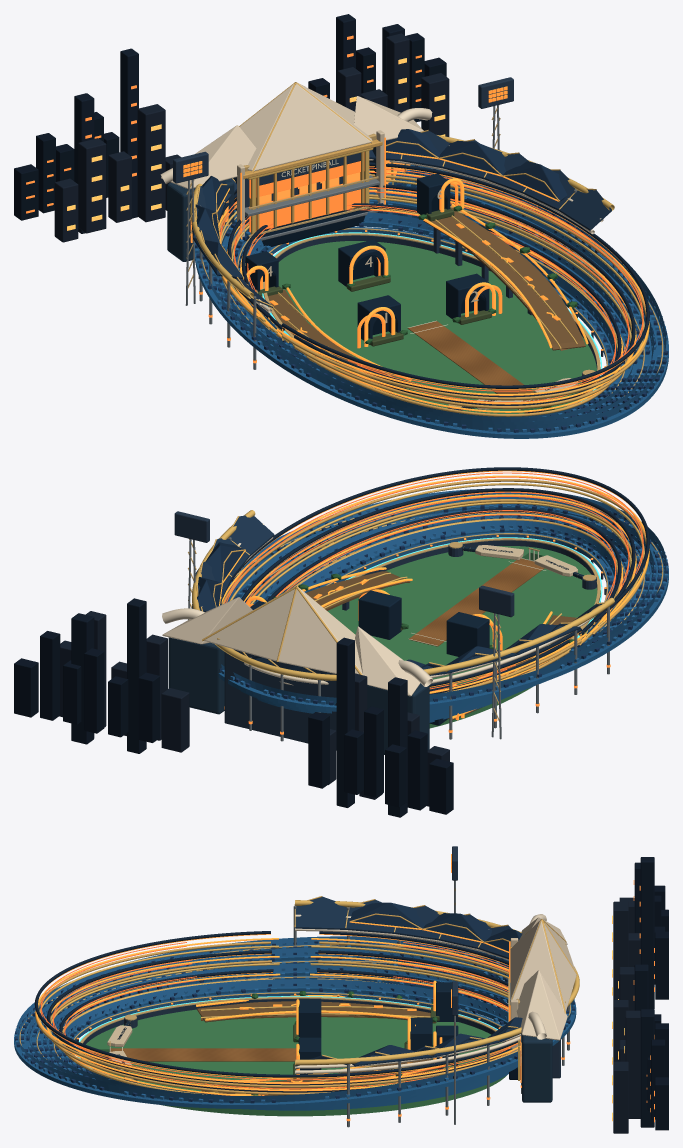
The model's file is cricket-stadium-colosseum-r12.glb.
3 renders of one model, top to bottom at view 1: azimuth 30°, elevation 25°; view 2: azimuth 150°, elevation 25°; view 3: azimuth 270°, elevation 25°, orthographic. The views are drawn at different scales.
Parts seen in each view (by area): view 1: Arena_Field_Substrate, R9_Six_Lane, R9_Pavilion_Tensile_0, Seating_Terrace_09, Crowd_Band_09, Individual_Seats_0, Individual_Seats_1, Crowd_Band_07, Crowd_Band_04, R11_Tier_Upper_2, R9_City_3, Measured_Pitch (+64 smaller); view 2: Arena_Field_Substrate, Pavilion_Shell, Crowd_Band_09, R7_Pavilion_Wing_Mass_1, Individual_Seats_0, Individual_Seats_1, R9_Pavilion_Tensile_3, Crowd_Band_01, R9_Pavilion_Tensile_2, Seating_Terrace_09, R11_Tier_Upper_2, R7_Upper_Fascia_2 (+66 smaller); view 3: Arena_Field_Substrate, Crowd_Band_09, Seating_Terrace_09, Crowd_Band_01, R11_Tier_Upper_2, Individual_Seats_0, Individual_Seats_1, R11_Tier_Lower_2, Crowd_Band_04, Crowd_Band_07, R11_Tier_Upper_1, Measured_Pitch (+59 smaller).
Part boxes in pixels (<box>): Arena_Field_Substrate: <box>278,241,600,413</box>; R9_Six_Lane: <box>423,208,585,350</box>; R9_Pavilion_Tensile_0: <box>254,83,371,171</box>; Seating_Terrace_09: <box>194,170,668,438</box>; Crowd_Band_09: <box>197,164,666,432</box>; Individual_Seats_0: <box>195,167,667,432</box>; Individual_Seats_1: <box>195,165,668,432</box>; Crowd_Band_07: <box>214,169,653,424</box>; Crowd_Band_04: <box>232,192,635,422</box>; R11_Tier_Upper_2: <box>219,162,649,388</box>; R9_City_3: <box>137,104,165,222</box>; Measured_Pitch: <box>407,321,543,409</box>; Arena_Field_Substrate: <box>327,546,600,728</box>; Pavilion_Shell: <box>224,649,336,750</box>; Crowd_Band_09: <box>221,488,666,704</box>; R7_Pavilion_Wing_Mass_1: <box>168,637,224,714</box>; Individual_Seats_0: <box>221,493,668,704</box>; Individual_Seats_1: <box>219,493,668,705</box>; R9_Pavilion_Tensile_3: <box>278,589,358,674</box>; Crowd_Band_01: <box>298,520,617,658</box>; R9_Pavilion_Tensile_2: <box>204,589,294,661</box>; Seating_Terrace_09: <box>218,522,668,711</box>; R11_Tier_Upper_2: <box>229,467,649,686</box>; R7_Upper_Fascia_2: <box>192,510,614,680</box>; Arena_Field_Substrate: <box>82,1009,507,1116</box>; Crowd_Band_09: <box>16,936,573,1102</box>; Seating_Terrace_09: <box>14,945,576,1108</box>; Crowd_Band_01: <box>63,979,508,1095</box>; R11_Tier_Upper_2: <box>34,931,520,1077</box>; Individual_Seats_0: <box>15,941,575,1103</box>; Individual_Seats_1: <box>15,941,575,1103</box>; R11_Tier_Lower_2: <box>35,941,520,1087</box>; Crowd_Band_04: <box>45,963,508,1095</box>; Crowd_Band_07: <box>28,947,508,1095</box>; R11_Tier_Upper_1: <box>47,950,520,1085</box>; Measured_Pitch: <box>110,1048,296,1061</box>.
Bounding box in the file's own units: 13.13 × 5.09 × 19.12.
43 materials, 1 textured.
